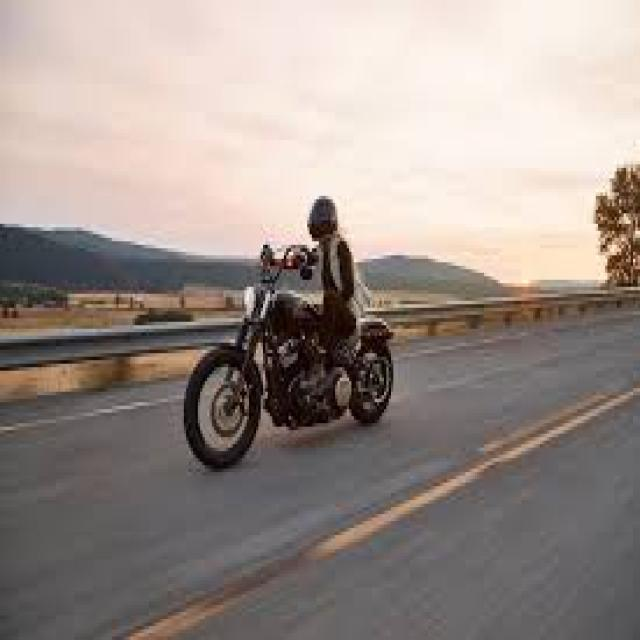MOTORCYCLE: (187, 281, 398, 468)
